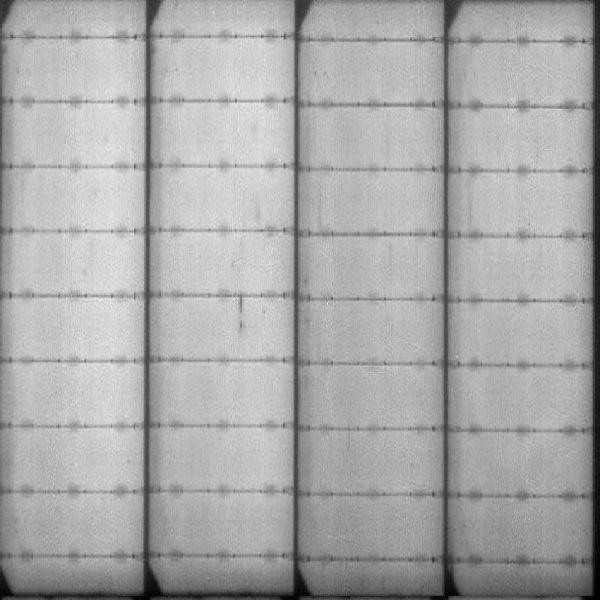scratch: (237, 299, 247, 332)
